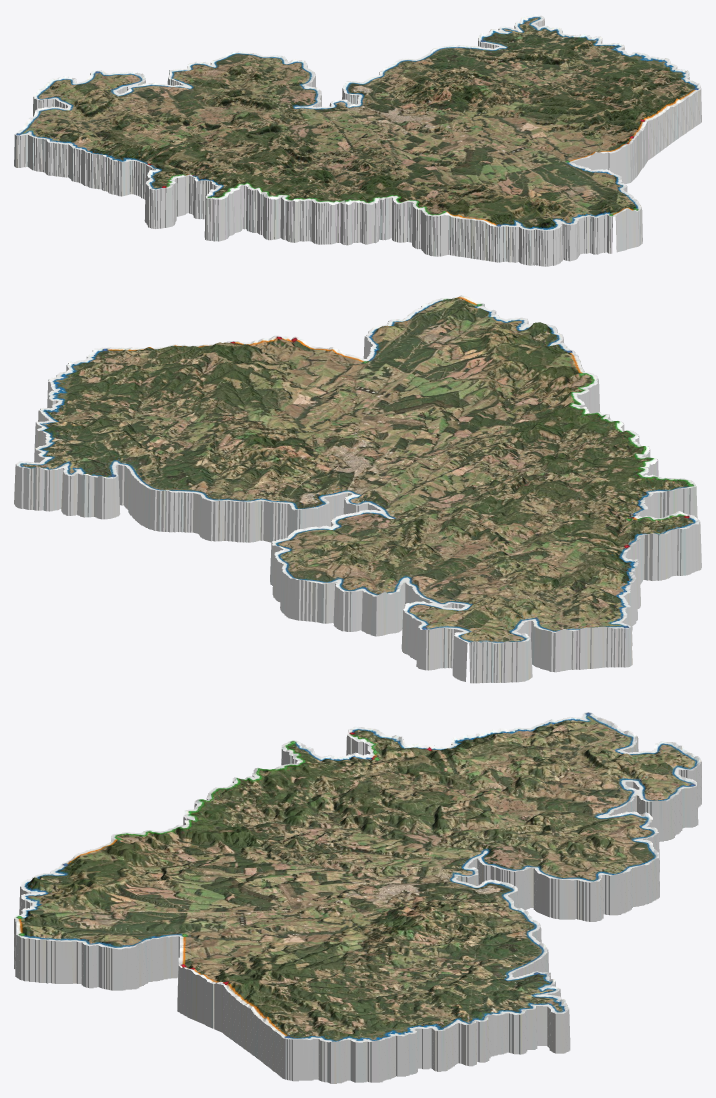
3 views of the same model, one above another, from view 1: azimuth 30°, elevation 25°; view 2: azimuth 150°, elevation 25°; view 3: azimuth 270°, elevation 25° (orthographic). The views are drawn at different scales.
Bounding box in the file's own units: 0.9999 × 0.0735 × 0.8697.
Materials: 1 (1 with a texture image).
